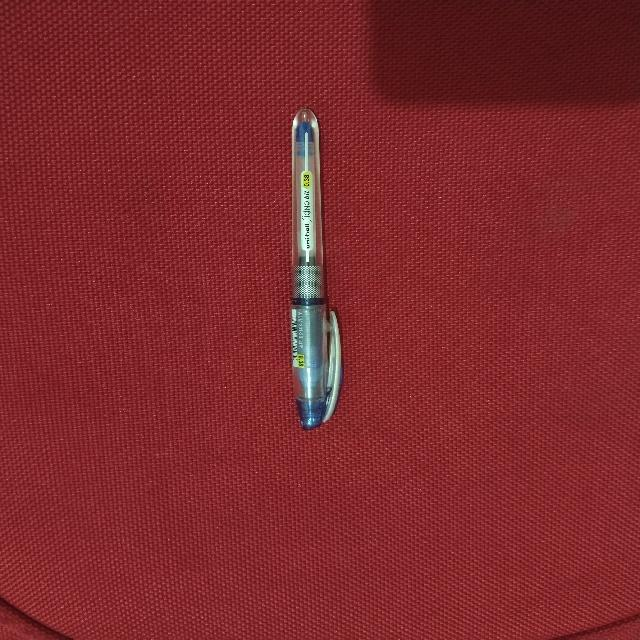pen: (291, 109, 340, 428)
